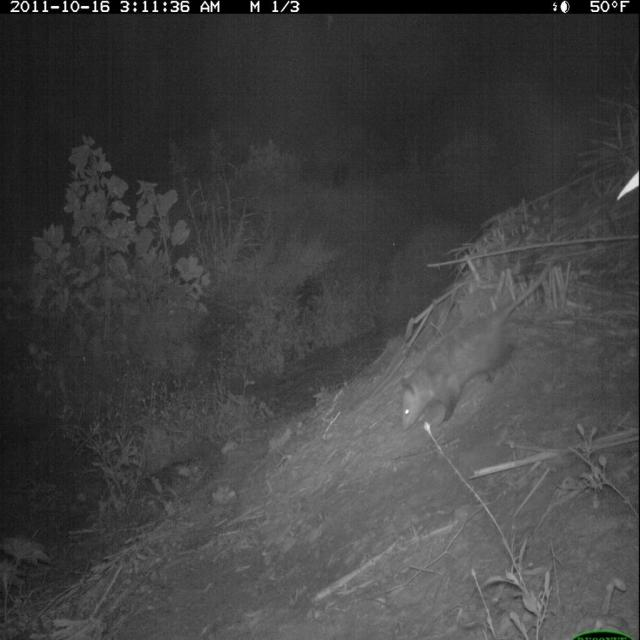opossum: (391, 244, 576, 456)
